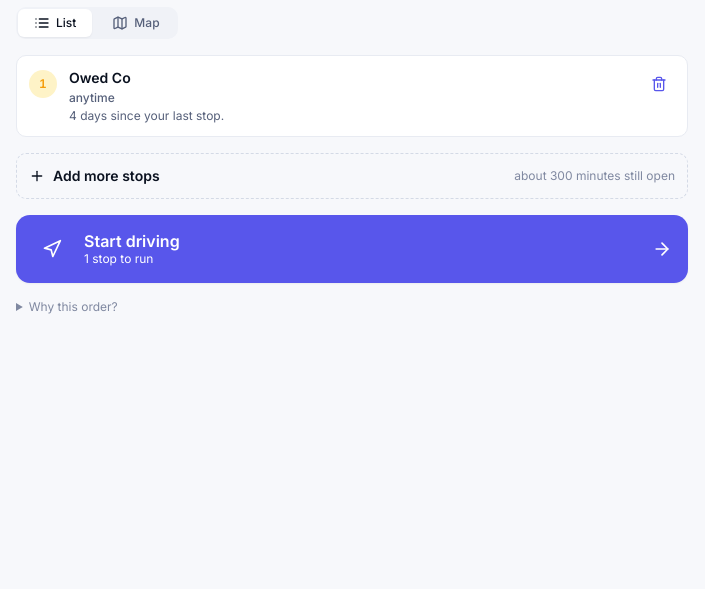
Test: TodaysPathView › one-tap 'Add more stops' (v2.2 B 4.4 fill to capacity) › Undo after an individual drop reverses only the still-attributable remainder (does not resurrect the dropped one)
This screenshot has width=705, height=589.
Click the button "Add more stops about 300 minutes still open" at x=106, y=176, box left=16, top=153, right=688, bottom=199
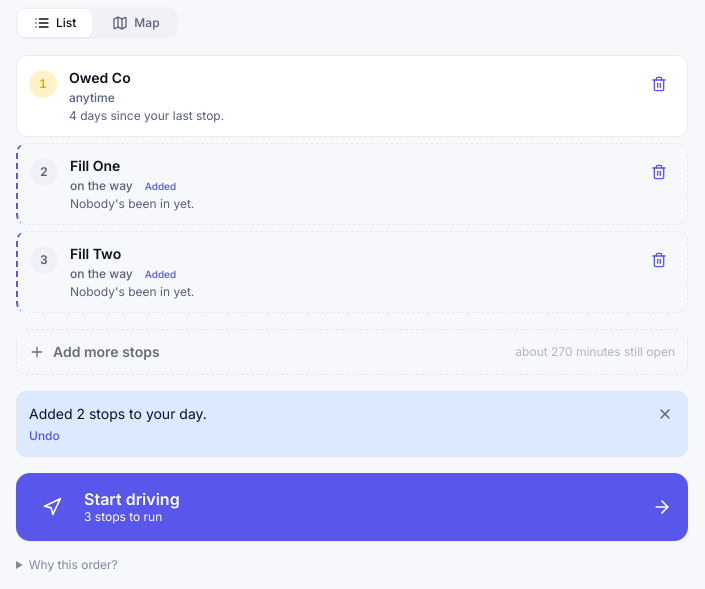
Note: Individually drop Fill One first.
Click the button named "remove fill one" at x=659, y=172, box left=643, top=156, right=675, bottom=188
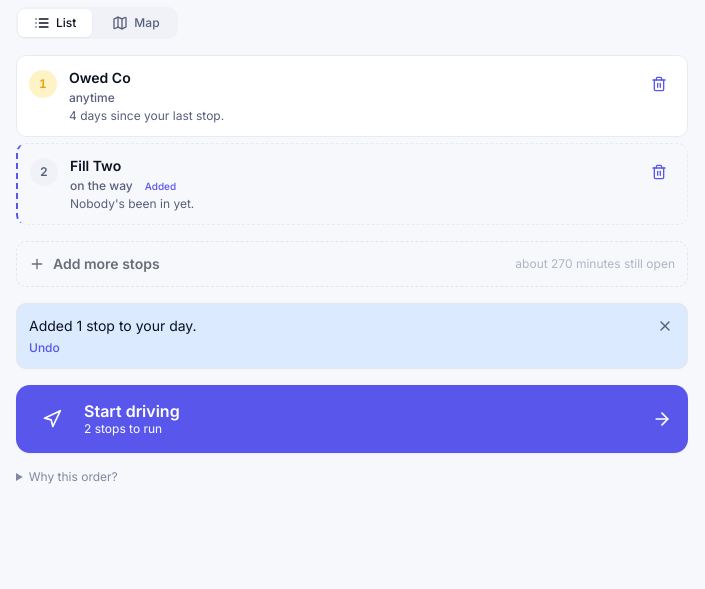
expect the text "Added 1 stop to your day." is shown: met, box left=29, top=317, right=197, bottom=334
Click the button "Undo" at x=44, y=348, box left=29, top=340, right=60, bottom=356
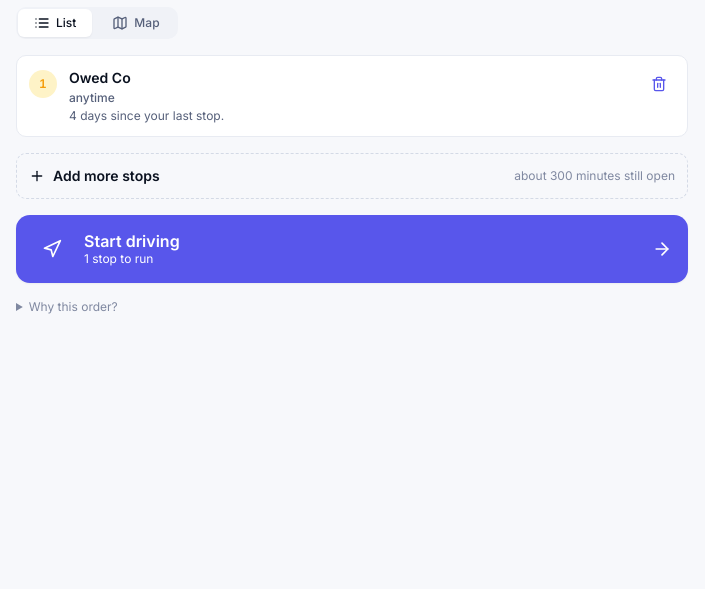
expect the text "Owed Co" is shown: met, box left=69, top=68, right=131, bottom=88
expect the text "to your day." is gone: met
